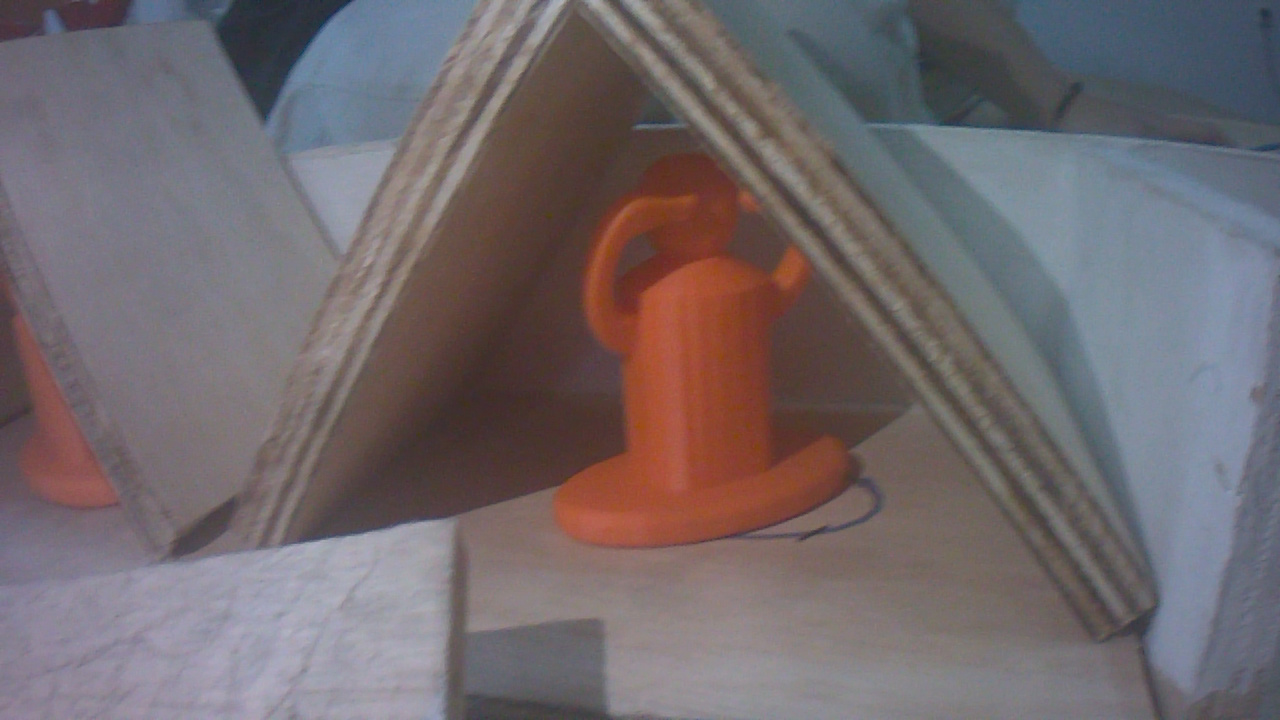real: (544, 148, 844, 558)
